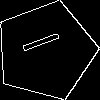I: (20, 25, 70, 55)
